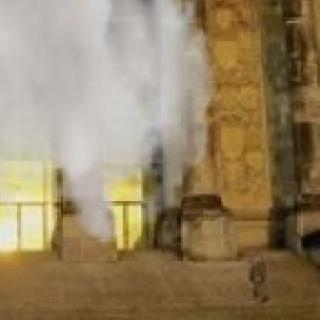smoke: (0, 0, 200, 247)
